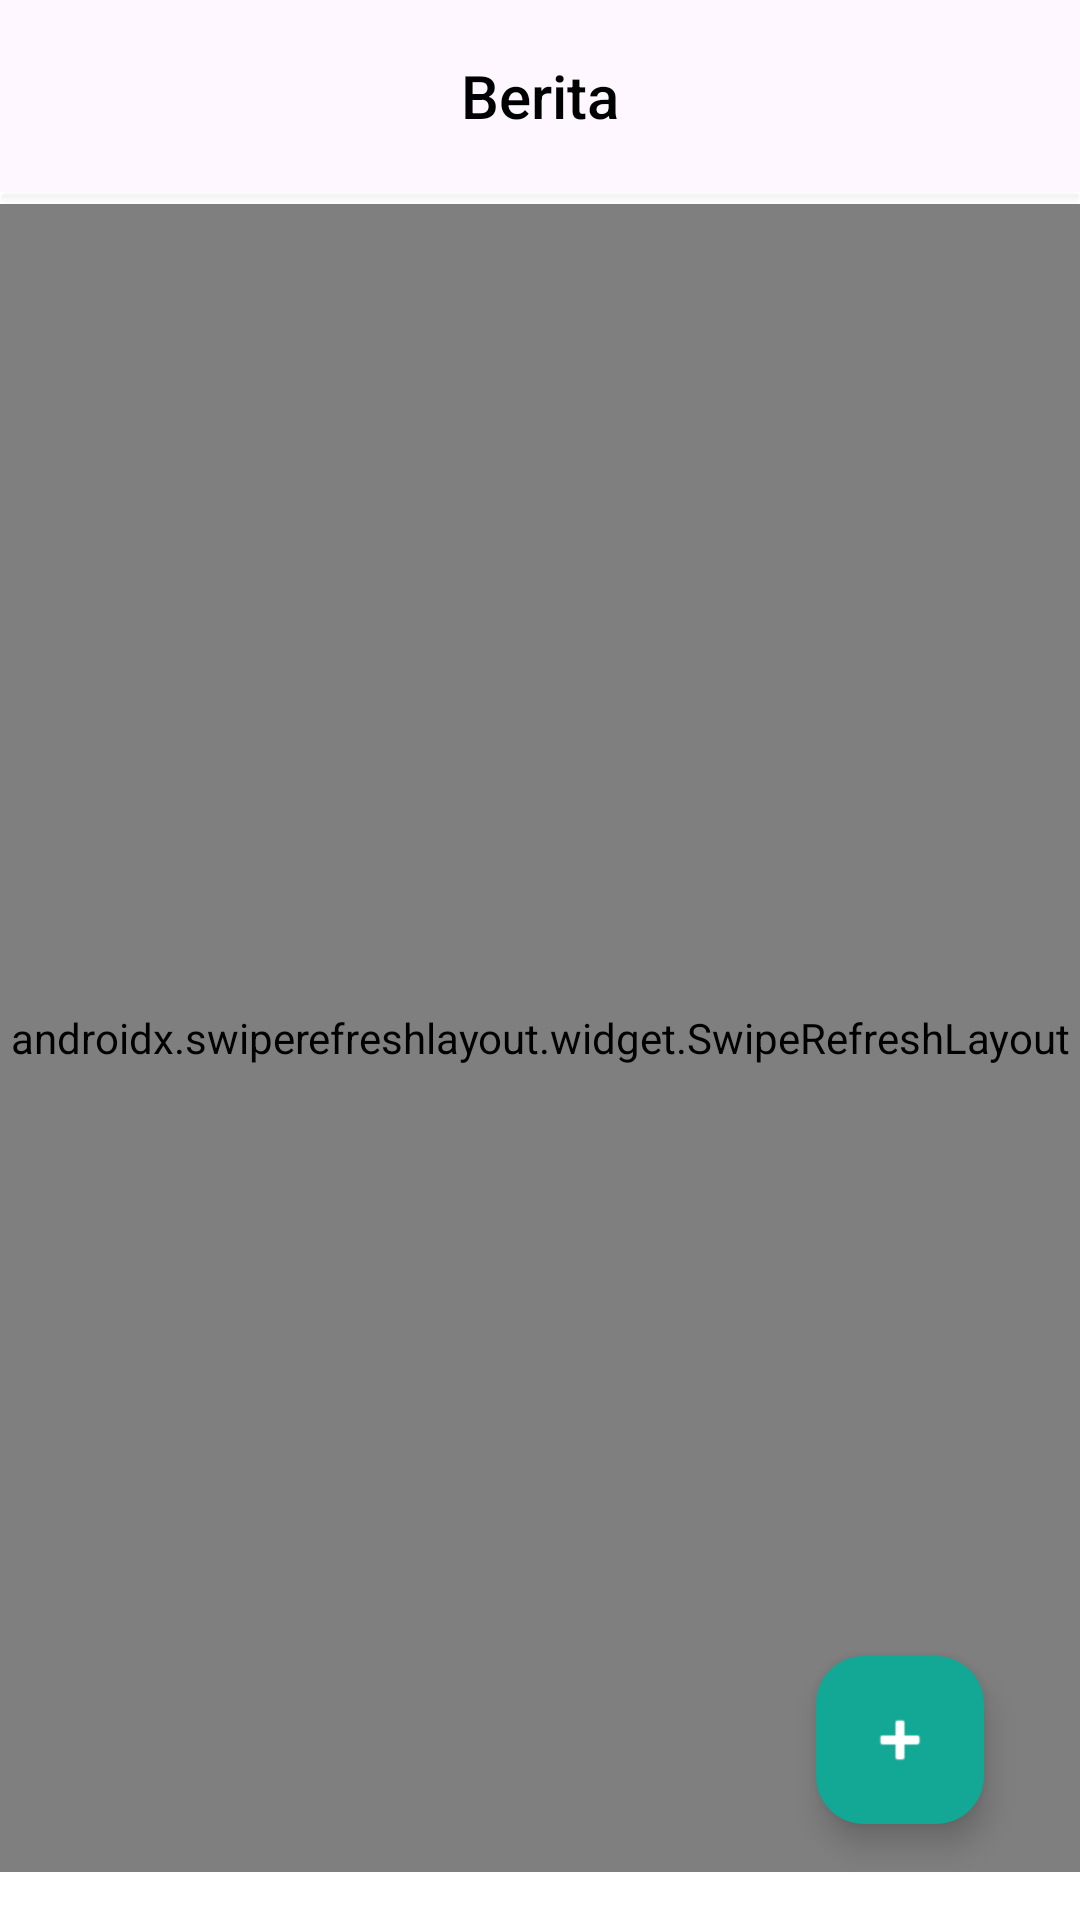

Where to tap for icons on this 1080*1920 app screen, as (x,y):
add: (900,1740)
